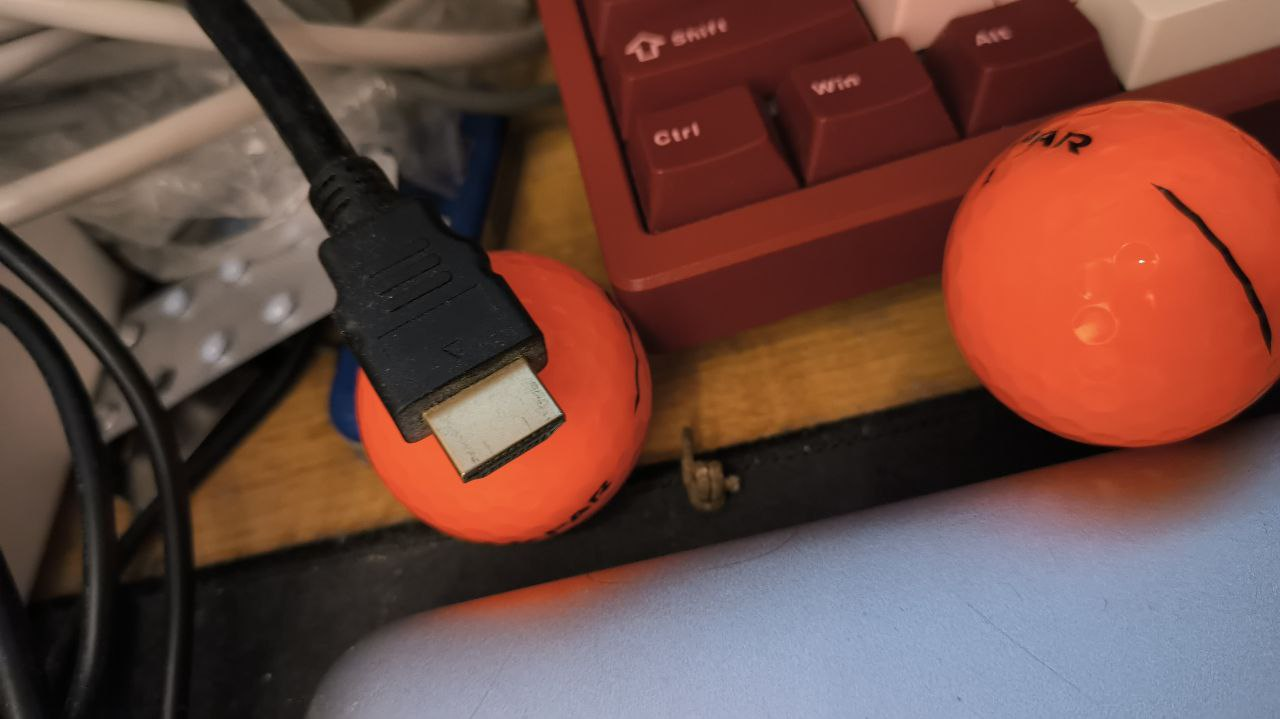orange_ball: (940, 99, 1280, 449), (356, 248, 655, 545)
